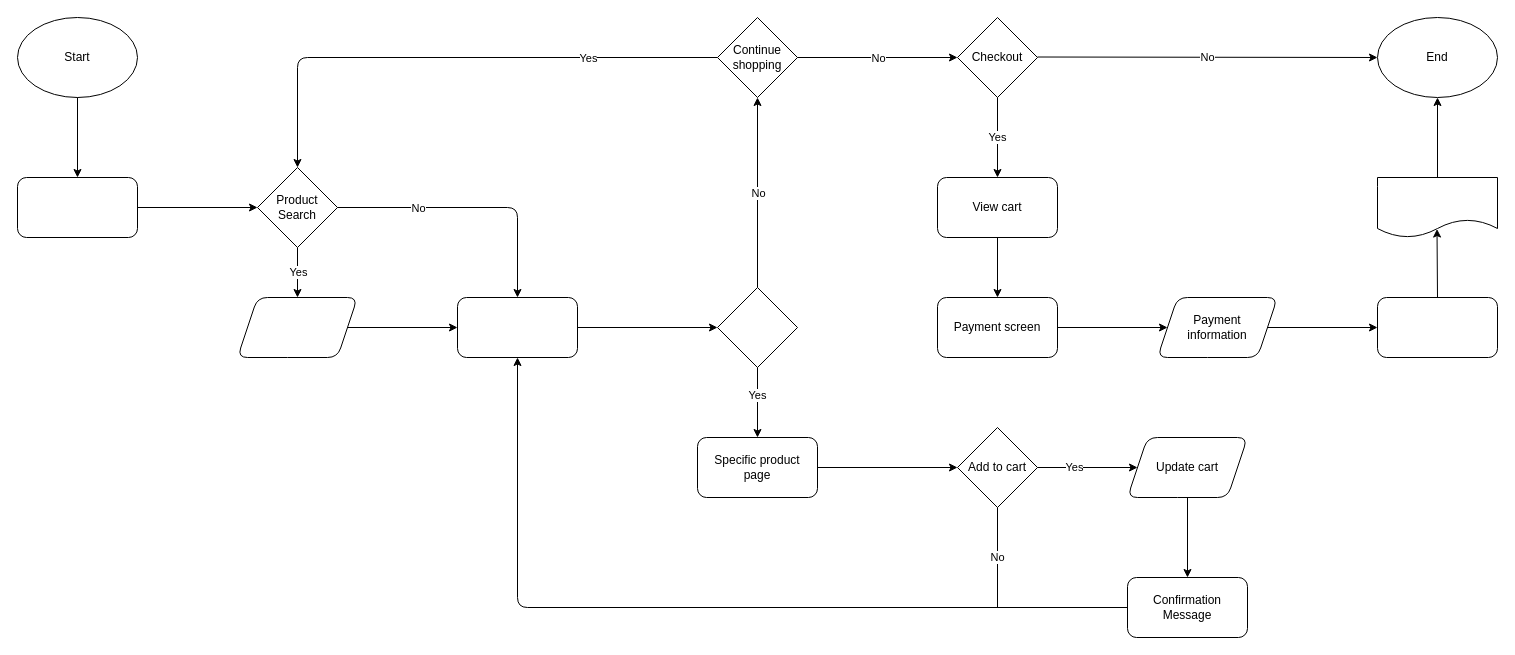
This 1515x655 diagram has some shape labels left out. The box of each missing label's shape, as (x1, y1, x2, y2) in pixels:
Browse products: (456, 296, 578, 358)
Confirmation screen: (1376, 296, 1498, 358)
Email confirmation: (1376, 176, 1498, 238)
View specific product: (716, 286, 798, 368)
Website entered: (16, 176, 138, 238)
Website input: (236, 296, 358, 358)
